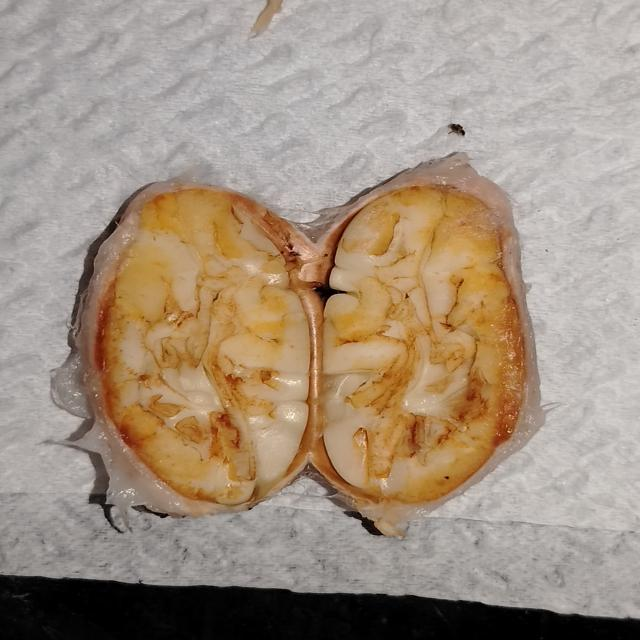Criollo: (81, 181, 309, 513), (314, 165, 514, 519)
